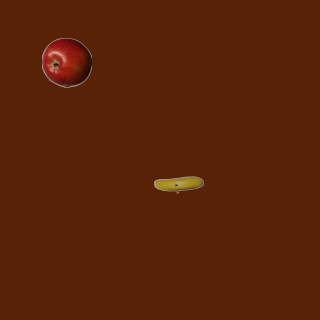Apple Braeburn: (41, 37, 91, 87)
Banana: (153, 159, 203, 209)
